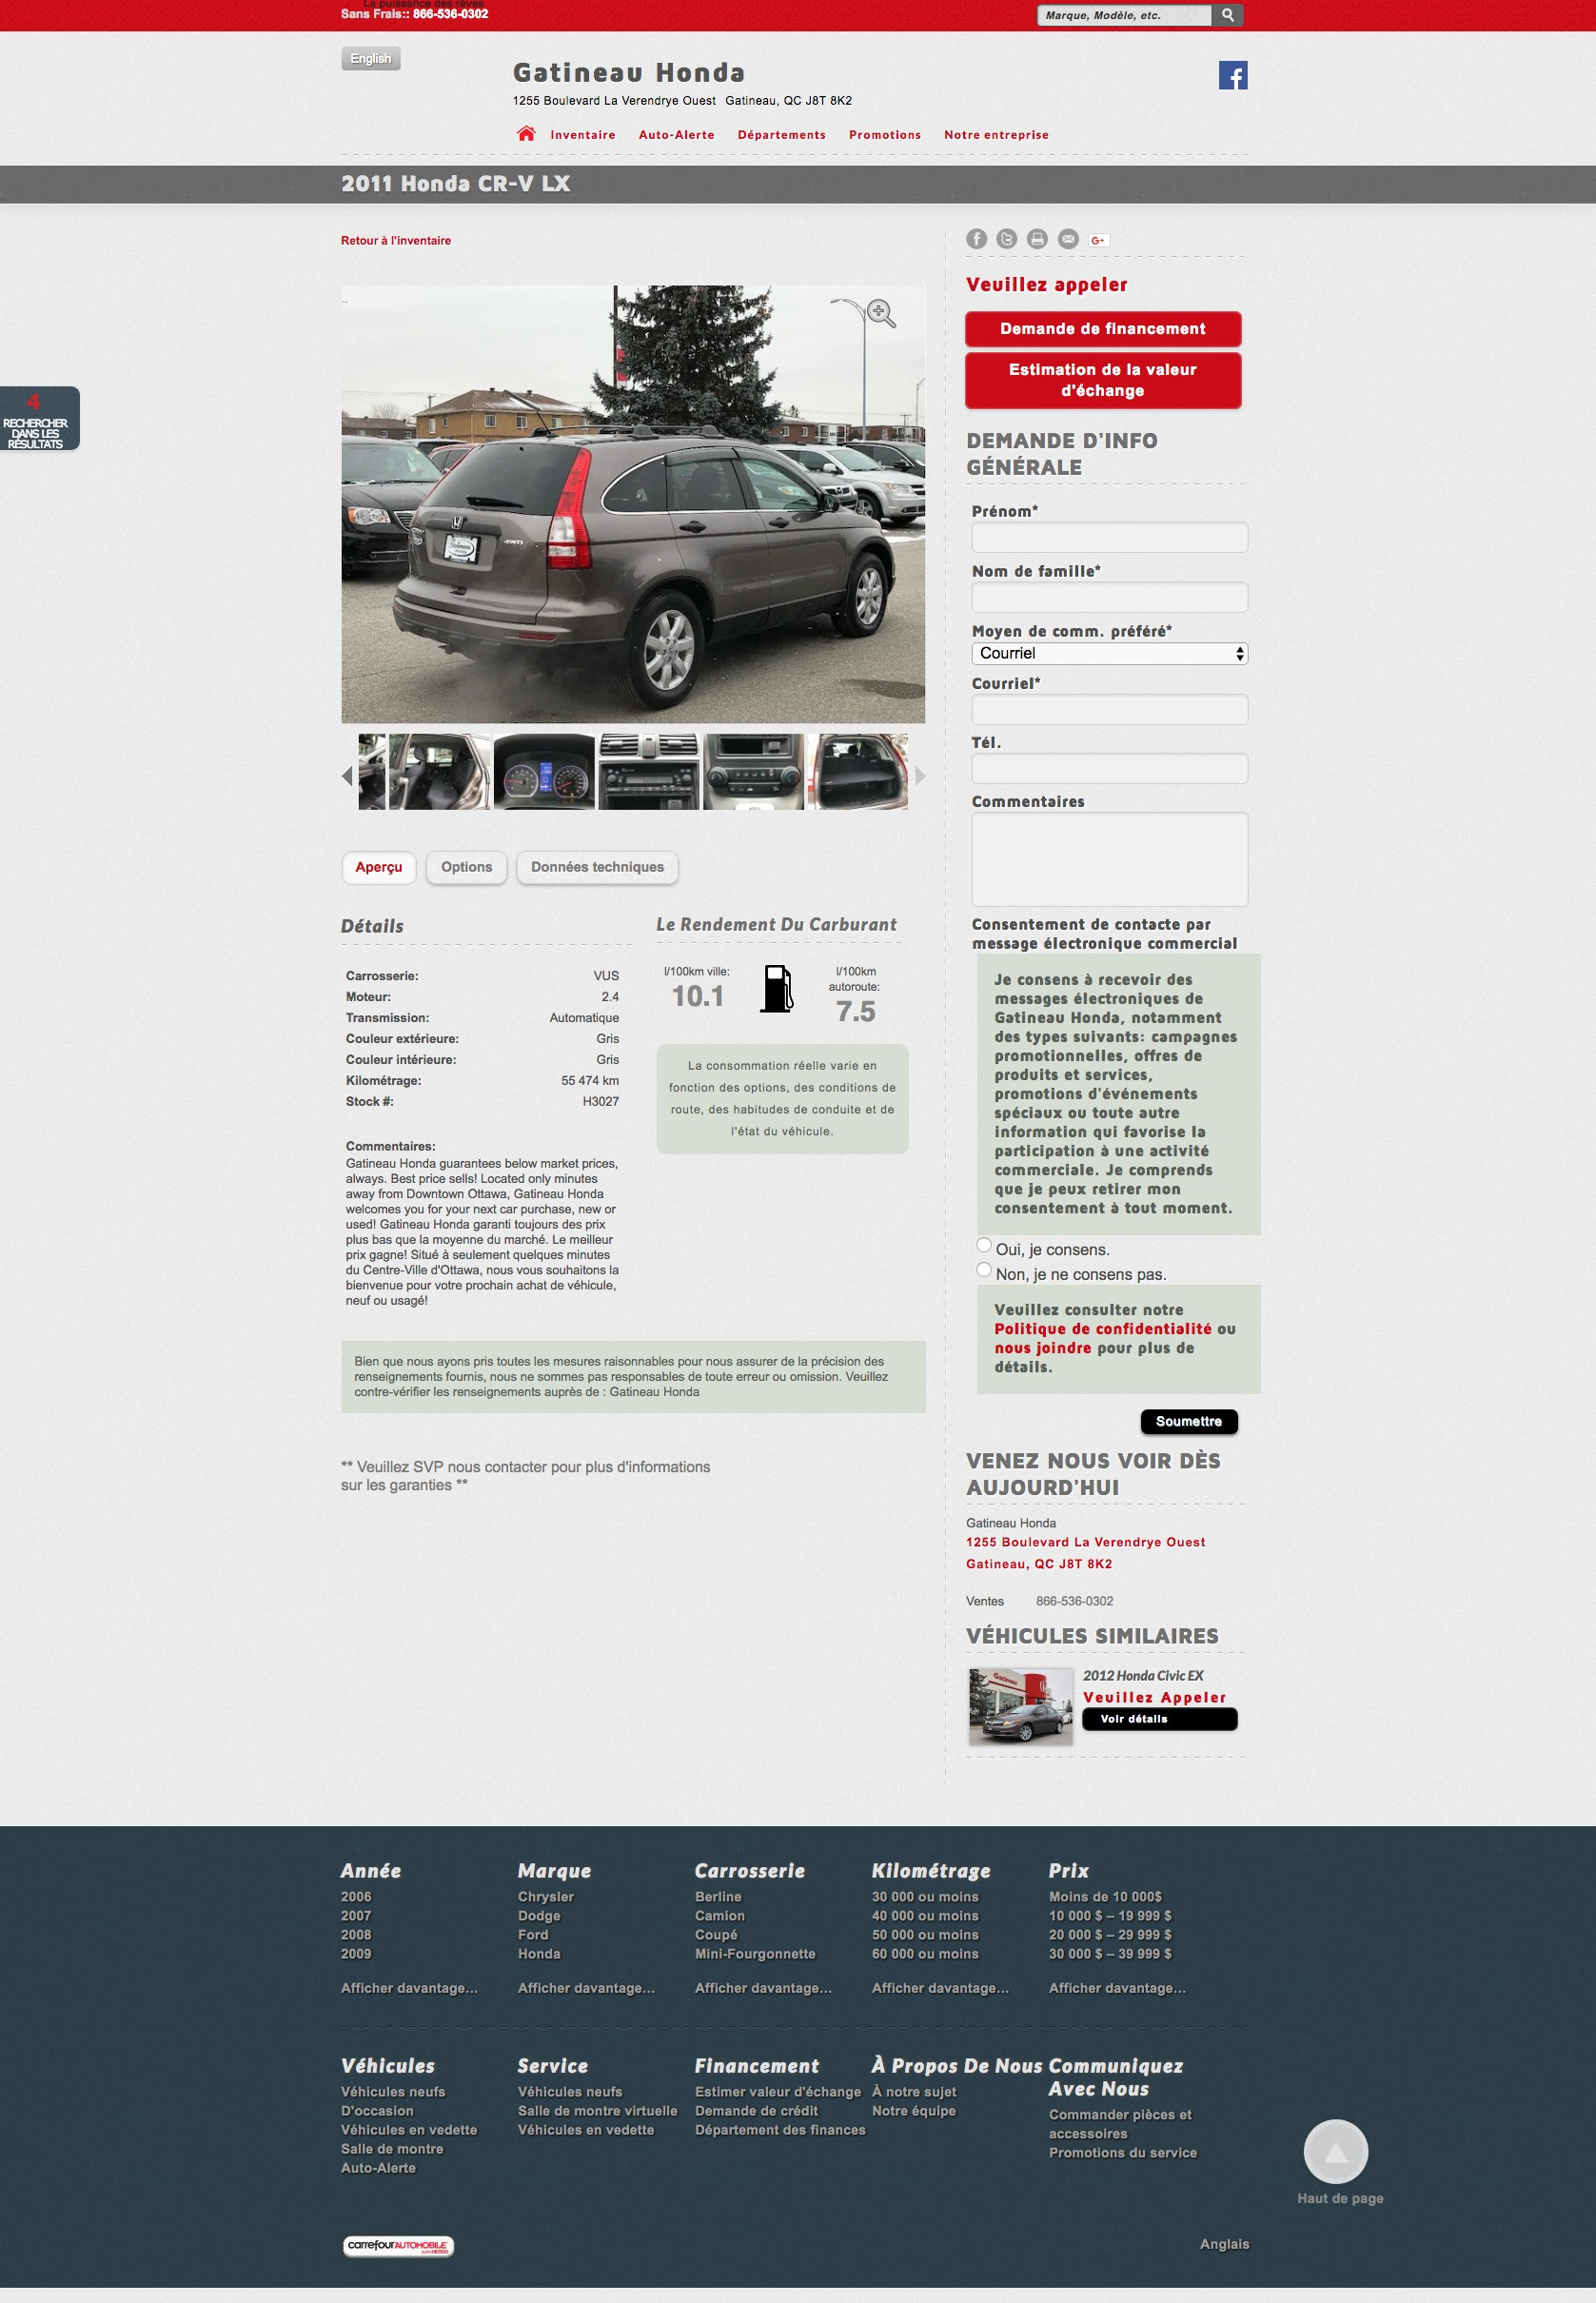car: (915, 766, 928, 787)
